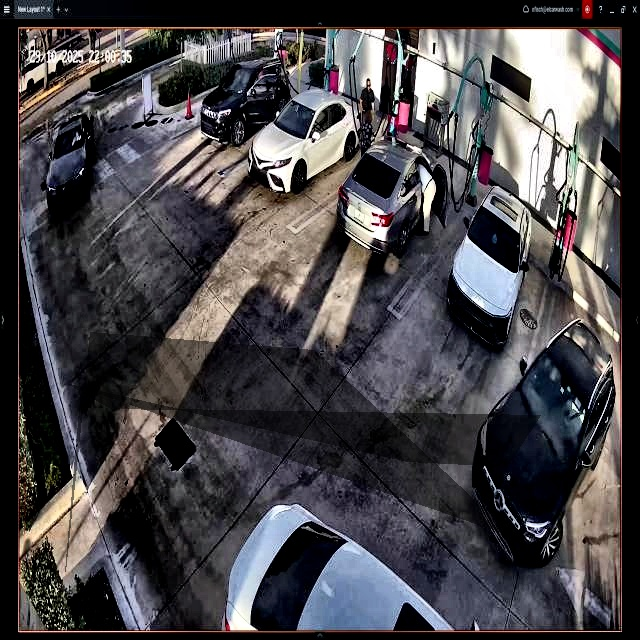Car: (338, 135, 449, 255), (451, 186, 532, 344), (249, 90, 358, 189), (199, 58, 291, 147)
